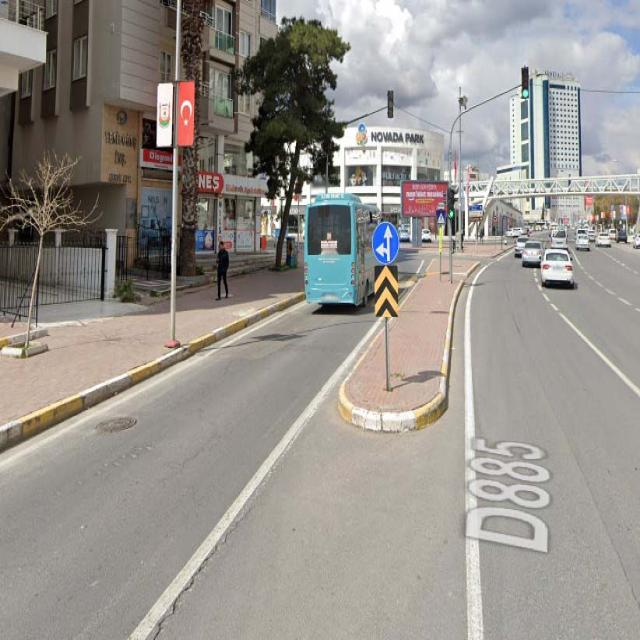ilerisol: (372, 226, 400, 266)
yesil: (521, 66, 530, 100), (448, 186, 456, 218)
